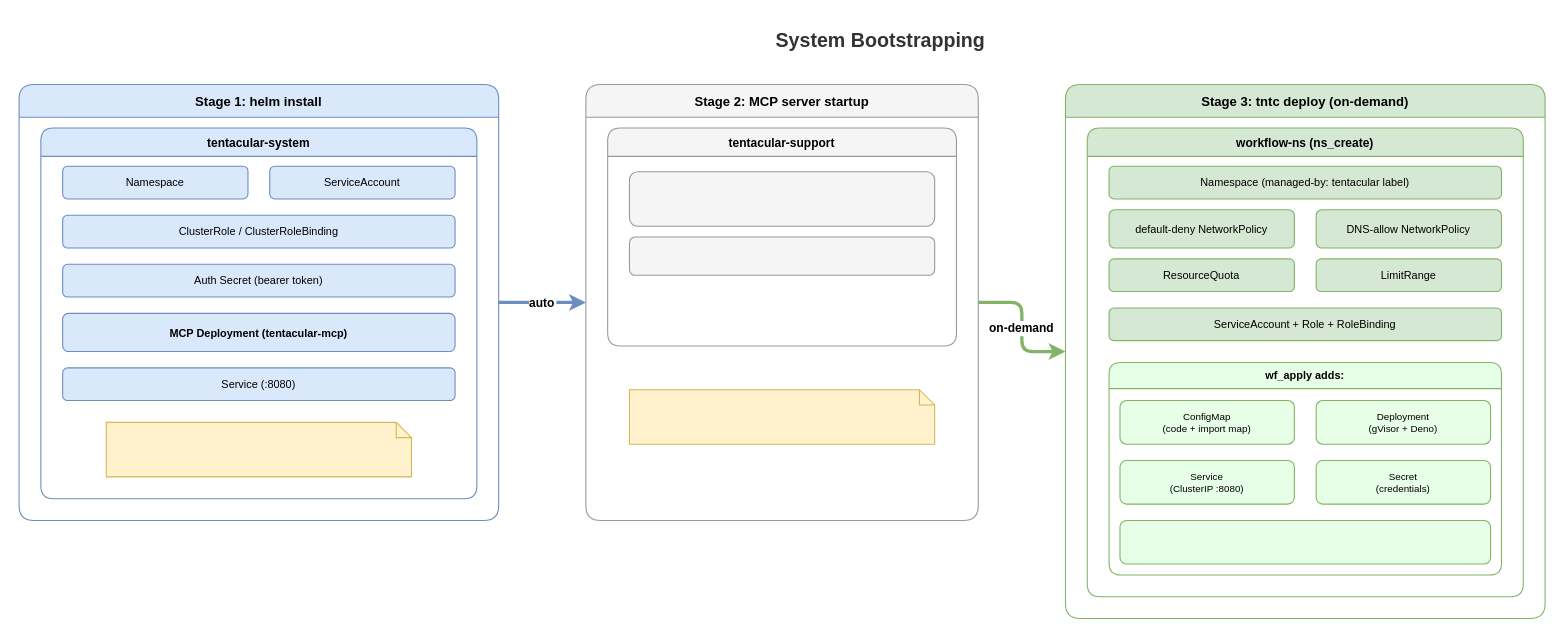
This 1564x638 diagram has some shape labels left out. The centre of each missing label's shape, as x and y in pixels:
esm-sh Deployment (auto-created by proxy reconciler): the point at 781,198
esm-sh Service (:8080): the point at 781,255
NetworkPolicy (contract-derived egress + esm.sh access): the point at 1305,541
Pre-requisite: kubectl create namespace tentacular-support: the point at 258,449
Reconciler re-checks every 5 min. NS must be pre-created.: the point at 781,416
